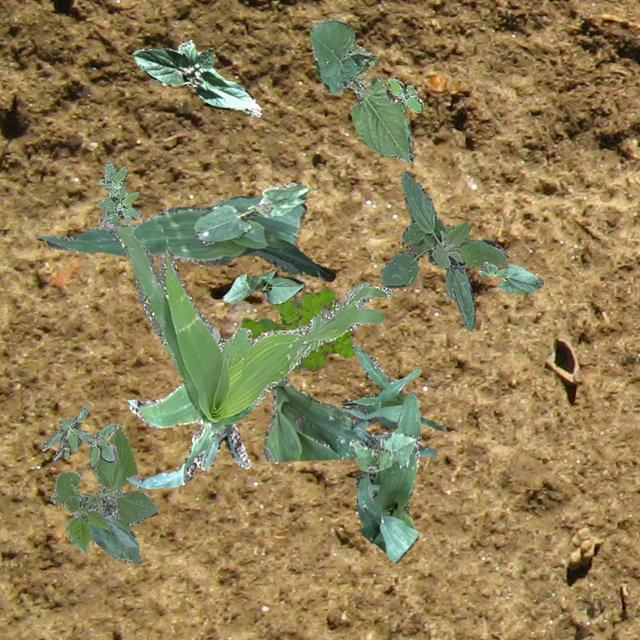crop: (36, 194, 334, 280), (262, 362, 436, 460), (308, 17, 414, 162), (49, 426, 158, 564), (126, 382, 250, 488), (354, 392, 420, 562), (132, 38, 260, 116), (338, 342, 444, 429), (192, 182, 308, 244), (220, 268, 304, 304), (348, 430, 416, 470), (478, 260, 542, 292)
weed: (110, 224, 390, 423), (380, 170, 508, 330), (240, 286, 352, 371), (40, 406, 116, 468), (96, 160, 140, 223), (388, 76, 422, 115)
